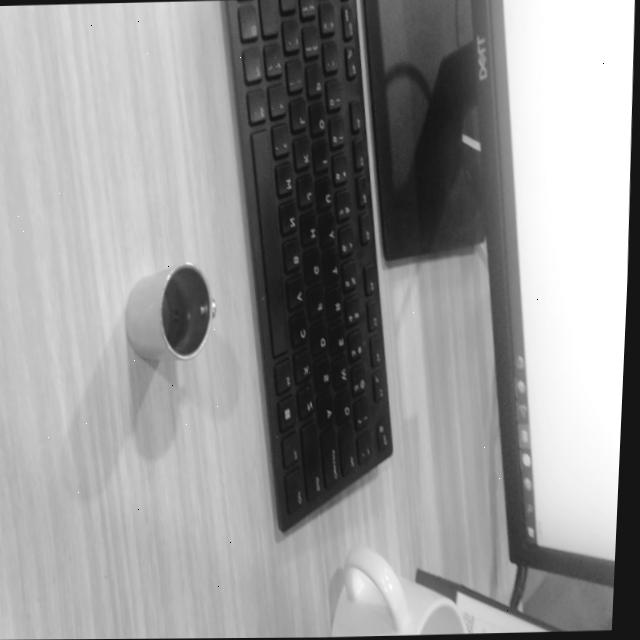Co_Lon: (123, 262, 215, 361)
